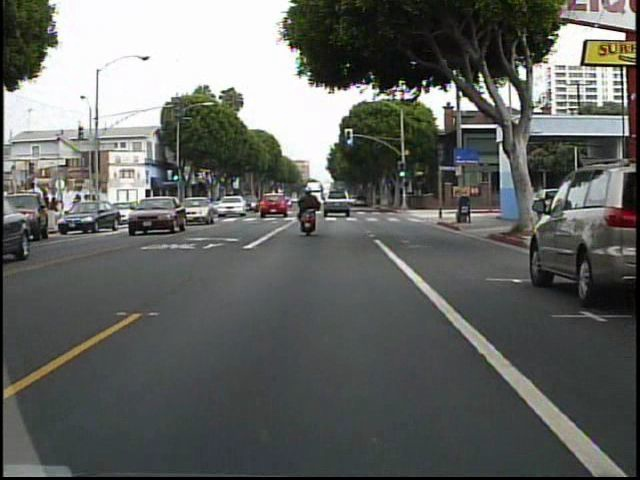person: (294, 183, 325, 240)
